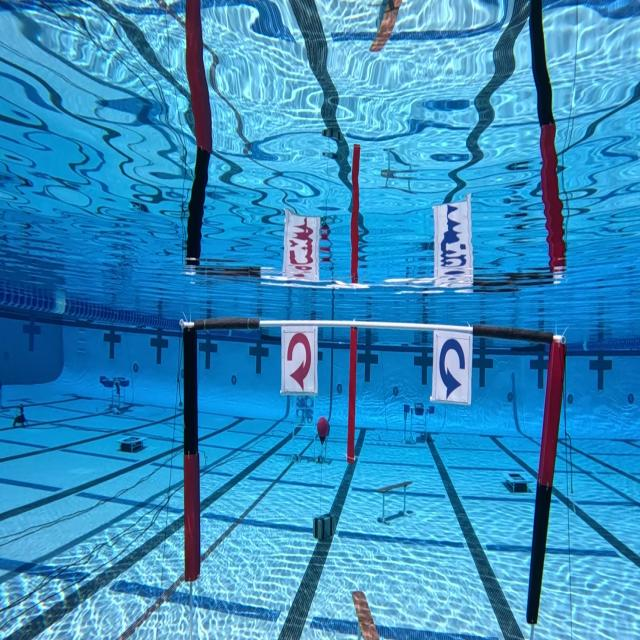blue_side: (429, 320, 477, 406)
red_side: (279, 316, 321, 402)
